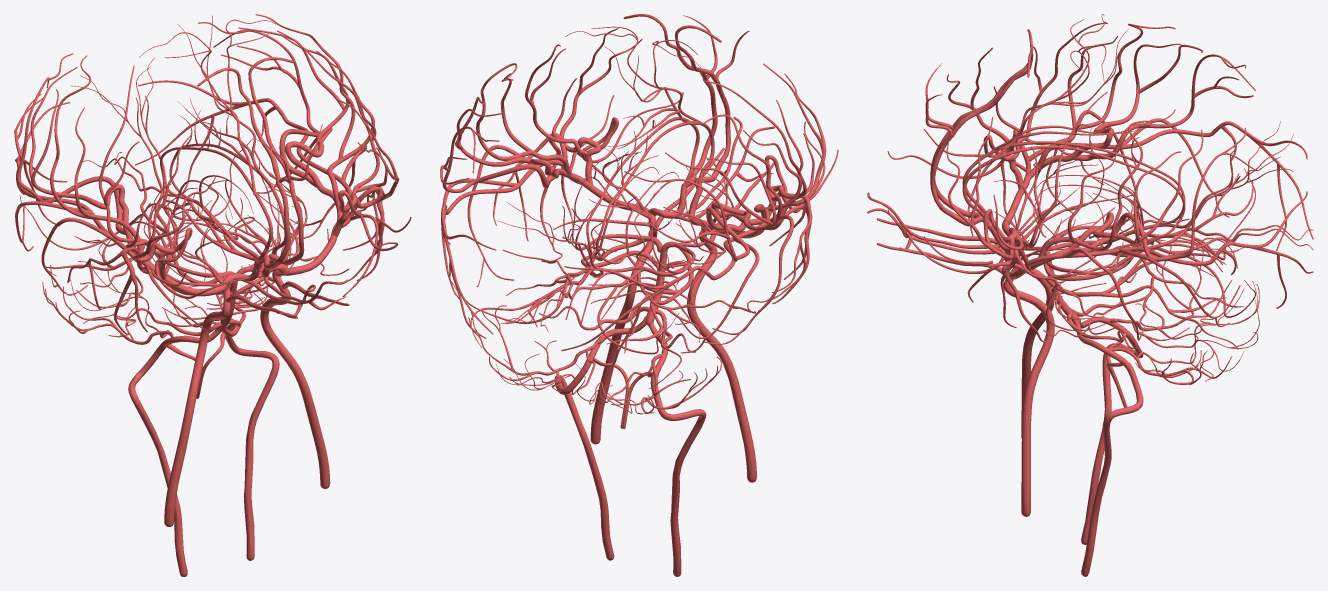
The model's file is vessels.lod0.glb.
The picture shows the model from 3 angles, left to right: view 1: azimuth 30°, elevation 25°; view 2: azimuth 150°, elevation 25°; view 3: azimuth 270°, elevation 25°; orthographic projection. The views are drawn at different scales.
Visible parts, largest first — view 1: artery-of-central-sulcus, internal-carotid-artery-r, internal-carotid-artery-l, vertebral-artery-l, vertebral-artery-r, temporo-occipital-branch-of-middle-cerebral-artery-l, posterior-inferior-cerebellar-artery-r, posterior-parietal-artery-r, posterior-parietal-artery-l, artery-of-precentral-sulcus-r, prefrontal-artery-r, temporo-occipital-branch-of-middle-cerebral-artery-r (+26 smaller); view 2: artery-of-central-sulcus, internal-carotid-artery-r, vertebral-artery-l, vertebral-artery-r, internal-carotid-artery-l, temporo-occipital-branch-of-middle-cerebral-artery-r, posterior-inferior-cerebellar-artery-l, posterior-inferior-cerebellar-artery-r, temporo-occipital-branch-of-middle-cerebral-artery-l, posterior-parietal-artery-r, posterior-parietal-artery-l, prefrontal-artery-l (+23 smaller); view 3: artery-of-central-sulcus, internal-carotid-artery-l, vertebral-artery-l, vertebral-artery-r, temporo-occipital-branch-of-middle-cerebral-artery-r, temporo-occipital-branch-of-middle-cerebral-artery-l, posterior-inferior-cerebellar-artery-l, posterior-inferior-cerebellar-artery-r, posterior-parietal-artery-l, anterior-temporal-artery-l, internal-carotid-artery-r, posterior-parietal-artery-r (+22 smaller).
Boxes of the visible parts, x1=… form: artery-of-central-sulcus: x1=50, y1=14, x2=374, y2=256; internal-carotid-artery-r: x1=164, y1=284, x2=230, y2=526; internal-carotid-artery-l: x1=260, y1=268, x2=330, y2=488; vertebral-artery-l: x1=222, y1=324, x2=279, y2=560; vertebral-artery-r: x1=128, y1=329, x2=220, y2=576; temporo-occipital-branch-of-middle-cerebral-artery-l: x1=135, y1=80, x2=351, y2=195; posterior-inferior-cerebellar-artery-r: x1=42, y1=239, x2=173, y2=344; posterior-parietal-artery-r: x1=16, y1=53, x2=125, y2=234; posterior-parietal-artery-l: x1=198, y1=22, x2=319, y2=187; artery-of-precentral-sulcus-r: x1=98, y1=65, x2=160, y2=255; prefrontal-artery-r: x1=133, y1=134, x2=215, y2=262; temporo-occipital-branch-of-middle-cerebral-artery-r: x1=15, y1=102, x2=136, y2=262; artery-of-central-sulcus: x1=476, y1=63, x2=801, y2=224; internal-carotid-artery-r: x1=687, y1=228, x2=756, y2=482; vertebral-artery-l: x1=554, y1=316, x2=646, y2=560; vertebral-artery-r: x1=648, y1=323, x2=706, y2=576; internal-carotid-artery-l: x1=590, y1=213, x2=657, y2=444; temporo-occipital-branch-of-middle-cerebral-artery-r: x1=561, y1=215, x2=781, y2=368; posterior-inferior-cerebellar-artery-l: x1=468, y1=305, x2=600, y2=394; posterior-inferior-cerebellar-artery-r: x1=574, y1=354, x2=721, y2=414; temporo-occipital-branch-of-middle-cerebral-artery-l: x1=441, y1=159, x2=563, y2=338; posterior-parietal-artery-r: x1=624, y1=171, x2=749, y2=261; posterior-parietal-artery-l: x1=442, y1=126, x2=556, y2=192; prefrontal-artery-l: x1=559, y1=28, x2=642, y2=156; artery-of-central-sulcus: x1=1037, y1=23, x2=1175, y2=257; internal-carotid-artery-l: x1=1004, y1=260, x2=1054, y2=516; vertebral-artery-l: x1=1072, y1=319, x2=1143, y2=576; vertebral-artery-r: x1=1080, y1=317, x2=1143, y2=544; temporo-occipital-branch-of-middle-cerebral-artery-r: x1=1025, y1=121, x2=1313, y2=251; temporo-occipital-branch-of-middle-cerebral-artery-l: x1=1027, y1=191, x2=1313, y2=308; posterior-inferior-cerebellar-artery-l: x1=1109, y1=300, x2=1259, y2=384; posterior-inferior-cerebellar-artery-r: x1=1109, y1=246, x2=1259, y2=348; posterior-parietal-artery-l: x1=1072, y1=127, x2=1255, y2=261; anterior-temporal-artery-l: x1=1000, y1=251, x2=1103, y2=342; internal-carotid-artery-r: x1=1004, y1=230, x2=1054, y2=438; posterior-parietal-artery-r: x1=1071, y1=54, x2=1255, y2=160.
Size of the model in its own units: 0.1447 by 0.2325 by 0.179.
